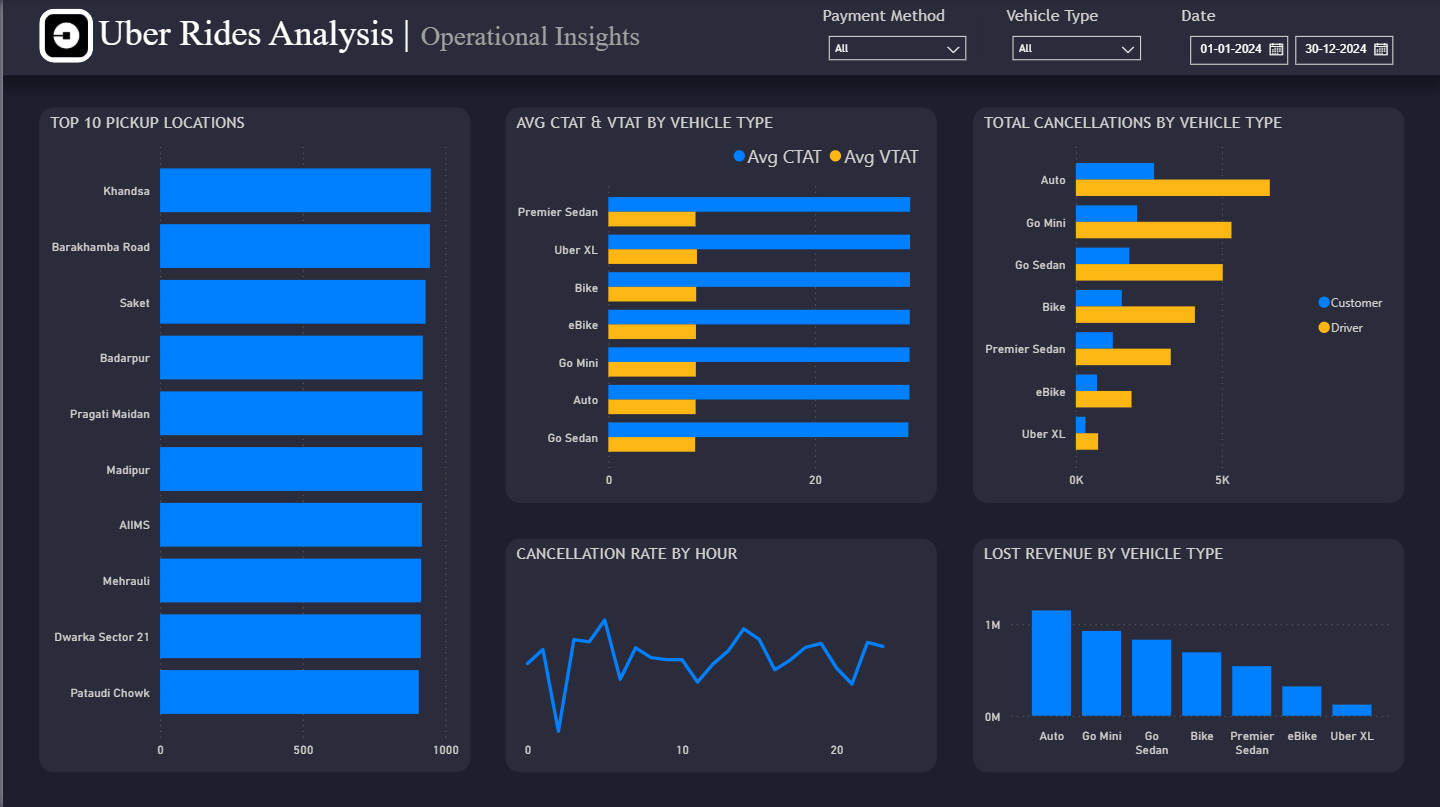

The page's visual inventory and layout, read from the dashboard file:
{"tool":"powerbi","page":{"name":"Operational Insights","canvas":[1280,720],"ordinal":1},"visuals":[{"type":"shape","box":[0,0,1280,67],"z":0},{"type":"slicer","title":"Vehicle Type","fields":{"Values":["UberRides.VehicleType"]},"box":[884,0,144,65],"z":1000},{"type":"slicer","title":"Date","fields":{"Values":["UberRides.Date"]},"box":[1040,0,224,65],"z":2000},{"type":"slicer","title":"Payment Method","fields":{"Values":["UberRides.PaymentMethod"]},"box":[720,0,152,65],"z":3000},{"type":"textbox","box":[80,0,544,64],"z":4000},{"type":"shape","box":[32,8,48,48],"z":5000},{"type":"image","box":[24,8,64,48],"z":6000},{"type":"clusteredBarChart","title":"TOTAL CANCELLATIONS BY VEHICLE TYPE","fields":{"Category":["UberRides.VehicleType"],"Y":["Measures Table 1.Customer Cancellations","Measures Table 1.Driver Cancellations"]},"box":[864,96,384,352],"z":7000},{"type":"columnChart","title":"LOST REVENUE BY VEHICLE TYPE","fields":{"Y":["Measures Table 1.Lost Revenue"],"Category":["UberRides.VehicleType"]},"box":[864,480,384,208],"z":8000},{"type":"clusteredBarChart","title":"TOP 10 PICKUP LOCATIONS","fields":{"Category":["UberRides.PickupLocation"],"Y":["Measures Table 1.Total Rides"]},"box":[32,96,384,592],"z":9000},{"type":"clusteredBarChart","title":"AVG CTAT & VTAT BY VEHICLE TYPE","fields":{"Y":["Avg(UberRides.AvgCTAT)","Avg(UberRides.AvgVTAT)"],"Category":["UberRides.VehicleType"]},"box":[448,96,384,352],"z":11000},{"type":"lineChart","title":"CANCELLATION RATE BY HOUR","fields":{"Category":["UberRides.RideHour"],"Y":["Measures Table 1.Cancellation Rate %"]},"box":[448,480,384,208],"z":11001}]}

Visuals, with their boxes in screenshot pixels (x1, y1, x2, y2), scaled from the page's 1280x720 canvas onto the 1440x807 screenshot:
shape: {"left": 0, "top": 0, "right": 1439, "bottom": 75}
"Vehicle Type" slicer: {"left": 994, "top": 0, "right": 1156, "bottom": 73}
"Date" slicer: {"left": 1170, "top": 0, "right": 1422, "bottom": 73}
"Payment Method" slicer: {"left": 810, "top": 0, "right": 981, "bottom": 73}
textbox: {"left": 90, "top": 0, "right": 702, "bottom": 72}
shape: {"left": 36, "top": 9, "right": 90, "bottom": 63}
image: {"left": 27, "top": 9, "right": 99, "bottom": 63}
"TOTAL CANCELLATIONS BY VEHICLE TYPE" clusteredBarChart: {"left": 972, "top": 108, "right": 1404, "bottom": 502}
"LOST REVENUE BY VEHICLE TYPE" columnChart: {"left": 972, "top": 538, "right": 1404, "bottom": 771}
"TOP 10 PICKUP LOCATIONS" clusteredBarChart: {"left": 36, "top": 108, "right": 468, "bottom": 771}
"AVG CTAT & VTAT BY VEHICLE TYPE" clusteredBarChart: {"left": 504, "top": 108, "right": 936, "bottom": 502}
"CANCELLATION RATE BY HOUR" lineChart: {"left": 504, "top": 538, "right": 936, "bottom": 771}
